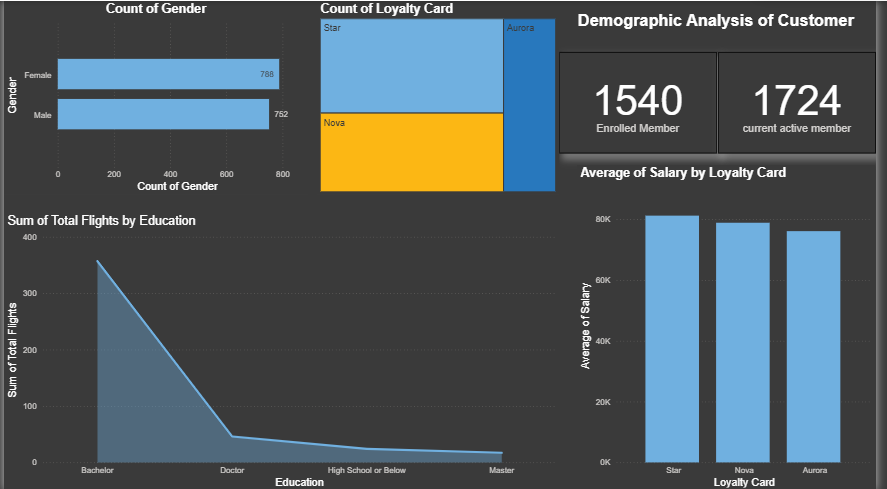

The page's visual inventory and layout, read from the dashboard file:
{"tool":"powerbi","page":{"name":"Page 2","canvas":[1280,720],"ordinal":1},"visuals":[{"type":"card","fields":{"Values":["Customer_Loyalty_History[1].Enrolled Member"]},"box":[815.6,74.7,231.5,149.4],"z":0},{"type":"card","fields":{"Values":["Customer_Flight_Activity[1].current active member"]},"box":[1048.6,74.7,231.5,149.4],"z":1000},{"type":"treemap","title":"Count of Loyalty Card ","fields":{"Values":["CountNonNull(Customer_Loyalty_History[1].Loyalty Card)"],"Group":["Customer_Loyalty_History[1].Loyalty Card"]},"box":[459.5,0,355.7,285.2],"z":2000},{"type":"lineClusteredColumnComboChart","fields":{"Category":["Customer_Loyalty_History[1].Loyalty Card"],"Y":["Avg(Customer_Loyalty_History[1].Salary)"]},"box":[842,241,437.9,479],"z":3000},{"type":"clusteredBarChart","title":"Count of Gender","fields":{"Category":["Customer_Loyalty_History[1].Gender"],"Y":["CountNonNull(Customer_Loyalty_History[1].Gender)"]},"box":[0,0,446.7,285.1],"z":4000},{"type":"areaChart","fields":{"Category":["Customer_Loyalty_History[1].Education"],"Y":["Sum(Customer_Flight_Activity[1].Total Flights)"]},"box":[0,311.5,815.5,408.5],"z":5000},{"type":"textbox","box":[826.1,10.5,440.7,52.3],"z":6000}]}

Visuals, with their boxes in screenshot pixels (x1, y1, x2, y2), scaled from the page's 1280x720 canvas onto the 887x489 screenshot:
card - Customer_Loyalty_History[1].Enrolled Member: bbox=(565, 51, 726, 152)
card - Customer_Flight_Activity[1].current active member: bbox=(727, 51, 886, 152)
"Count of Loyalty Card " treemap: bbox=(318, 0, 565, 194)
lineClusteredColumnComboChart - Customer_Loyalty_History[1].Loyalty Card x Avg(Customer_Loyalty_History[1].Salary): bbox=(583, 164, 886, 488)
"Count of Gender" clusteredBarChart: bbox=(0, 0, 310, 194)
areaChart - Customer_Loyalty_History[1].Education x Sum(Customer_Flight_Activity[1].Total Flights): bbox=(0, 212, 565, 488)
textbox: bbox=(572, 7, 878, 43)
